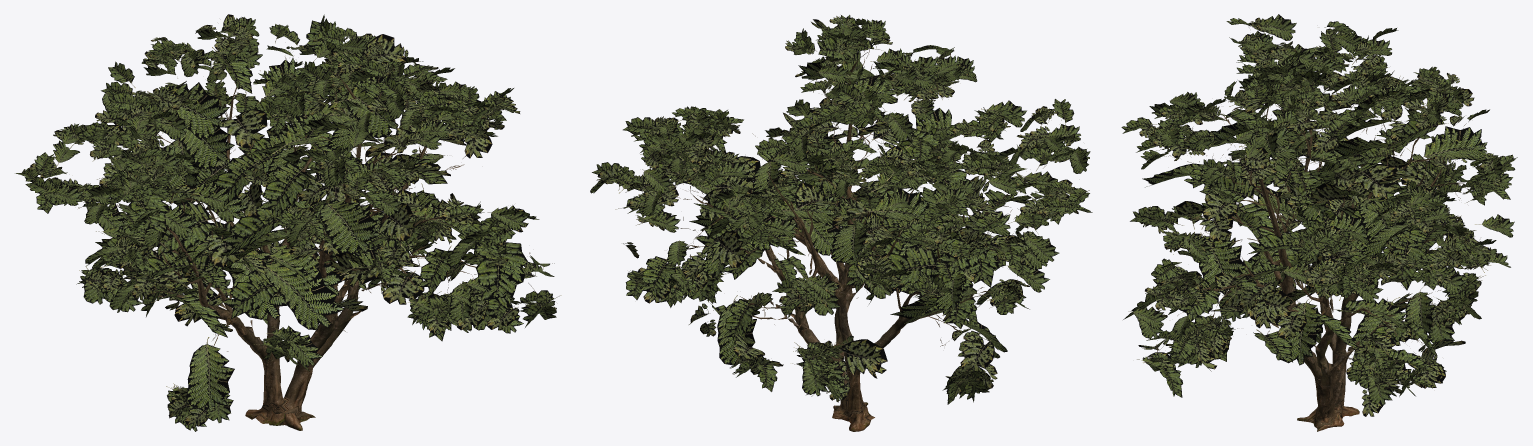
Rendered from jacaranda_b.glb.
3 renders of one model, left to right at view 1: azimuth 30°, elevation 25°; view 2: azimuth 150°, elevation 25°; view 3: azimuth 270°, elevation 25°, orthographic. The views are drawn at different scales.
Parts seen in each view (by area): view 1: jacaranda_tree_LOD0; view 2: jacaranda_tree_LOD0; view 3: jacaranda_tree_LOD0.
Boxes of the visible parts, <box> form: jacaranda_tree_LOD0: <box>15,14,561,431</box>; jacaranda_tree_LOD0: <box>590,15,1092,431</box>; jacaranda_tree_LOD0: <box>1121,14,1517,431</box>.
Bounding box in the file's own units: 25.38 × 19.26 × 18.97.
Materials: 3 (3 with a texture image).
